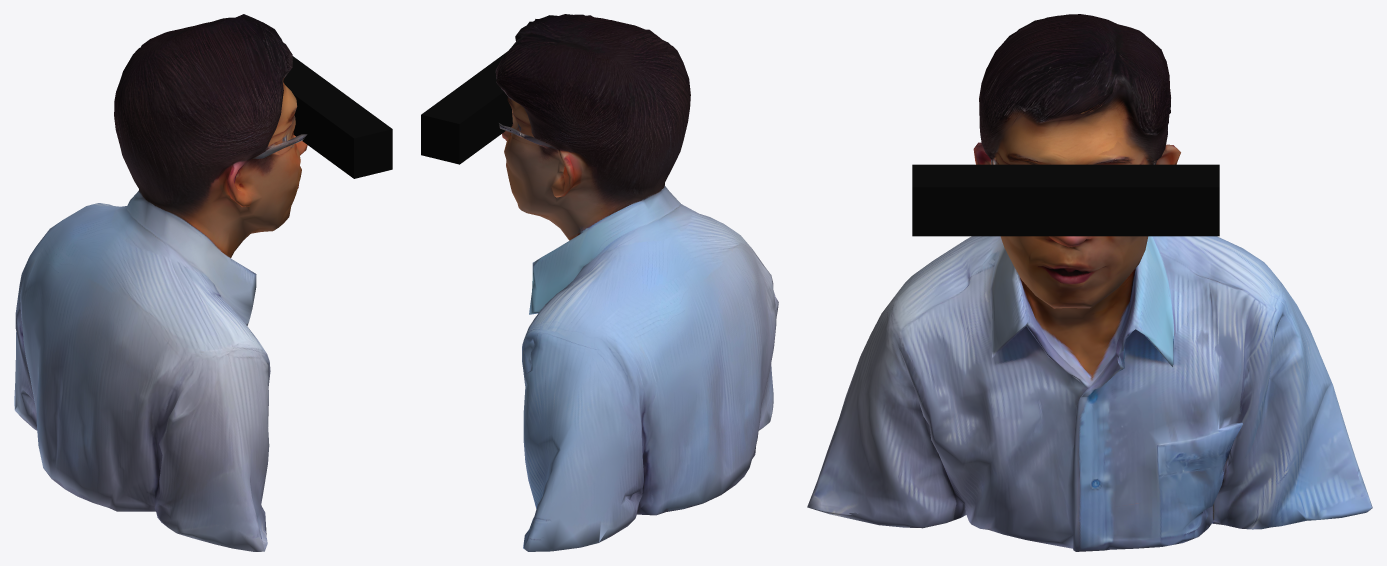
Rendered from ProfessorToy.fbx.
The picture shows the model from 3 angles, left to right: view 1: azimuth 30°, elevation 25°; view 2: azimuth 150°, elevation 25°; view 3: azimuth 270°, elevation 25°; orthographic projection. The views are drawn at different scales.
Visible parts, largest first — view 1: meshes[0], 立方體; view 2: meshes[0], 立方體; view 3: meshes[0], 立方體.
Part boxes in pixels (x1=…): meshes[0]: x1=14, y1=14, x2=307, y2=551; 立方體: x1=283, y1=56, x2=392, y2=178; meshes[0]: x1=495, y1=14, x2=778, y2=551; 立方體: x1=421, y1=51, x2=512, y2=164; meshes[0]: x1=807, y1=14, x2=1372, y2=551; 立方體: x1=912, y1=164, x2=1219, y2=236.
Bounding box in the file's own units: 63.82 × 99.88 × 99.62.
